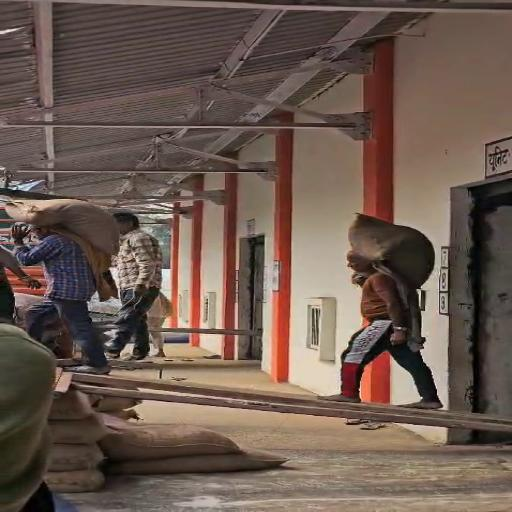bag: (0, 192, 130, 262), (348, 210, 440, 290)
